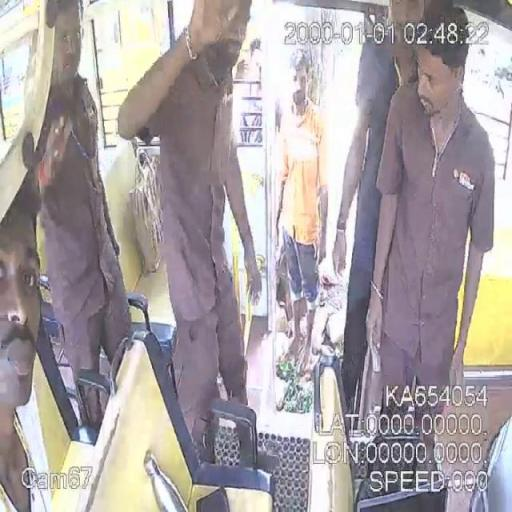persona: (358, 4, 496, 504), (116, 0, 264, 458), (31, 0, 133, 431), (330, 0, 434, 413), (0, 182, 60, 512), (272, 48, 330, 380)
